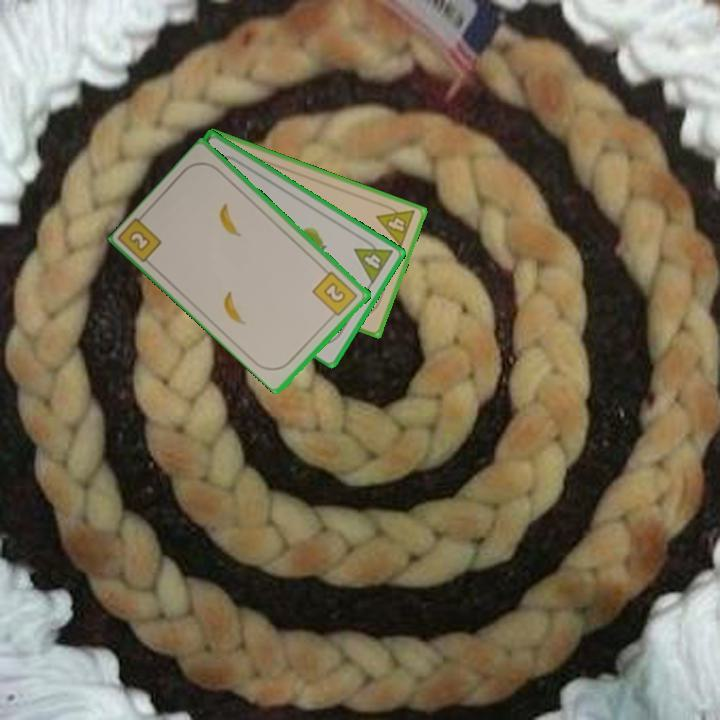2b: (309, 268, 361, 321), (125, 227, 154, 255)
4p: (351, 233, 396, 287), (373, 199, 418, 250)
